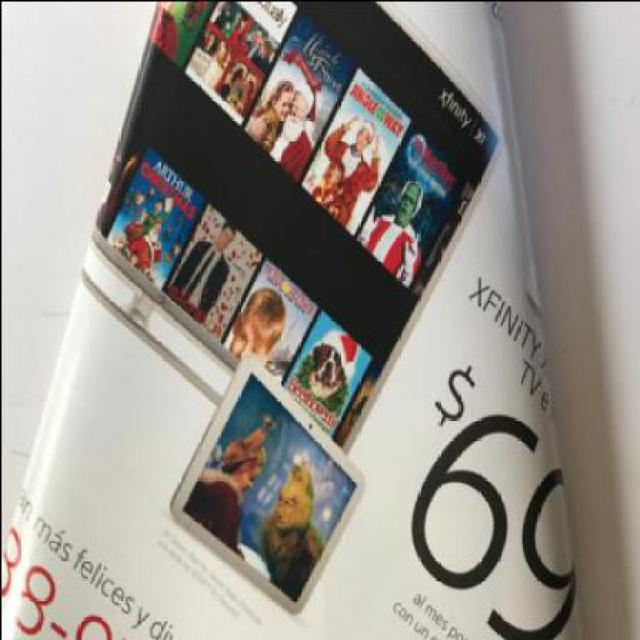PAPER: (2, 1, 580, 638)
